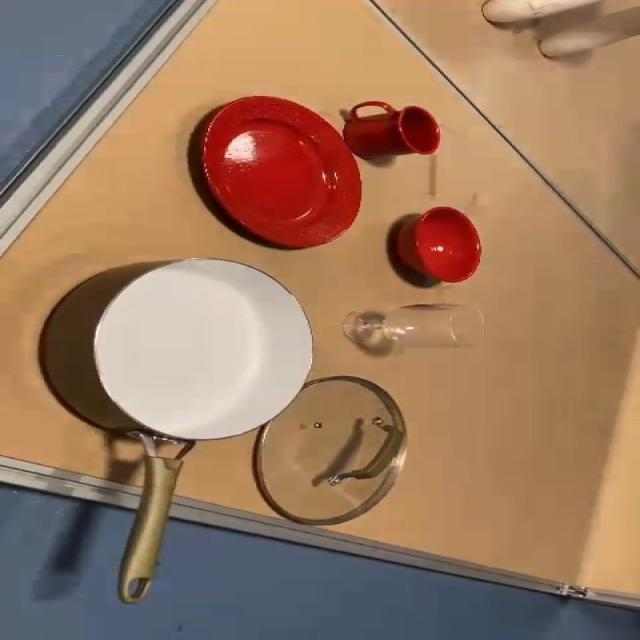Bowl: (405, 207, 478, 286)
Glass: (333, 301, 497, 349)
Plate: (203, 96, 357, 250)
cup: (330, 99, 442, 156)
pot: (0, 264, 320, 598)
